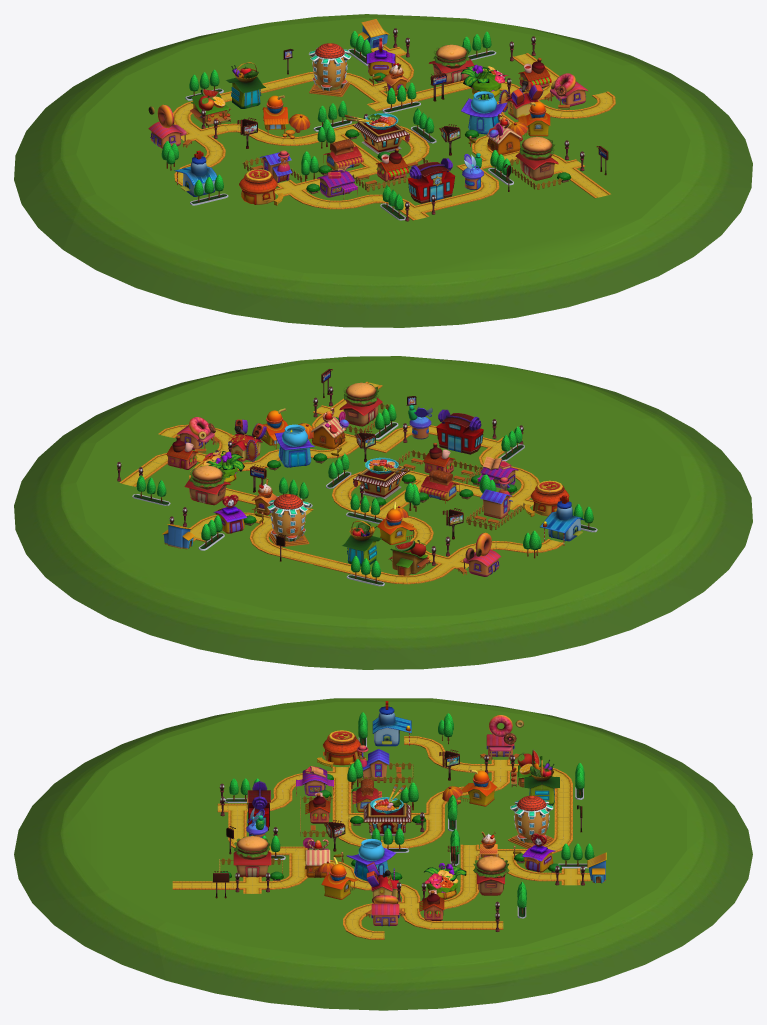
3 views of the same model, one above another, from view 1: azimuth 30°, elevation 25°; view 2: azimuth 150°, elevation 25°; view 3: azimuth 270°, elevation 25° (orthographic).
Visible parts, largest first — view 1: Pod, Cartoon_shop_Cartoon_Shop; view 2: Pod, Cartoon_shop_Cartoon_Shop; view 3: Pod, Cartoon_shop_Cartoon_Shop.
Part boxes in pixels (bbox=[...]): Pod: bbox=[14, 14, 752, 327]; Cartoon_shop_Cartoon_Shop: bbox=[148, 19, 615, 221]; Pod: bbox=[14, 356, 752, 669]; Cartoon_shop_Cartoon_Shop: bbox=[117, 369, 597, 586]; Pod: bbox=[14, 698, 752, 1010]; Cartoon_shop_Cartoon_Shop: bbox=[172, 701, 606, 939].
Bounding box in the file's own units: 41.97 × 4.29 × 41.97.
Materials: 5 (5 with a texture image).
